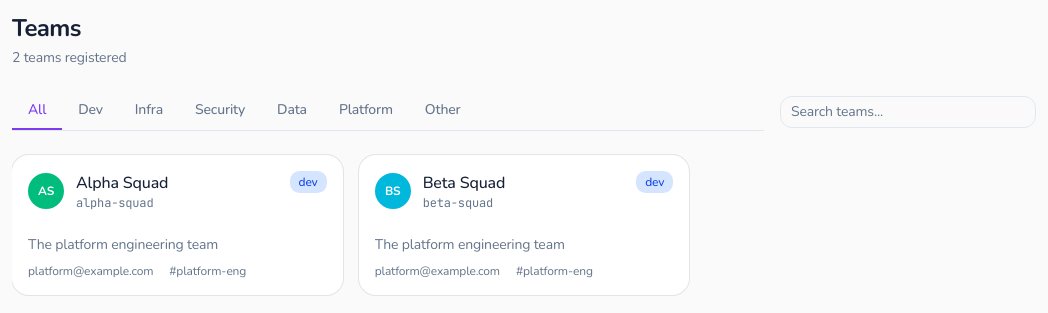
Test: TeamsClient › filters the list by display name when a search term is entered
Expected: the text "Alpha Squad" is shown, [76,171,168,195]
Type "Alpha" into the field with placeholder "Search teams..." at point(908, 112), box [780,96,1036,128]
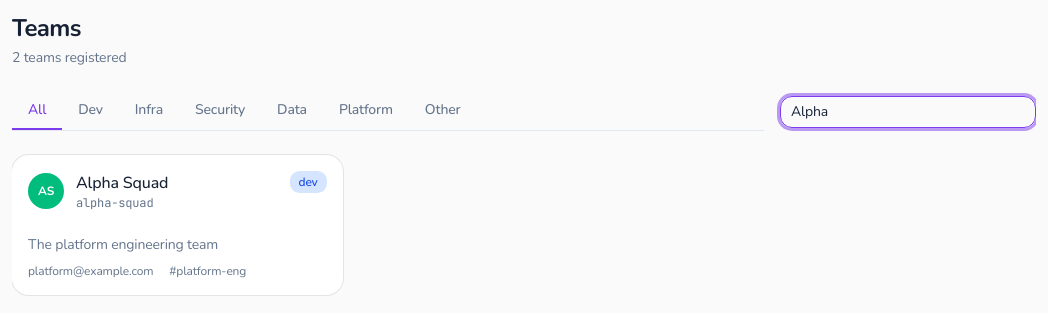
Expected: the text "Alpha Squad" is shown, [76,171,168,195]
Expected: the link "Beta Squad" is gone
